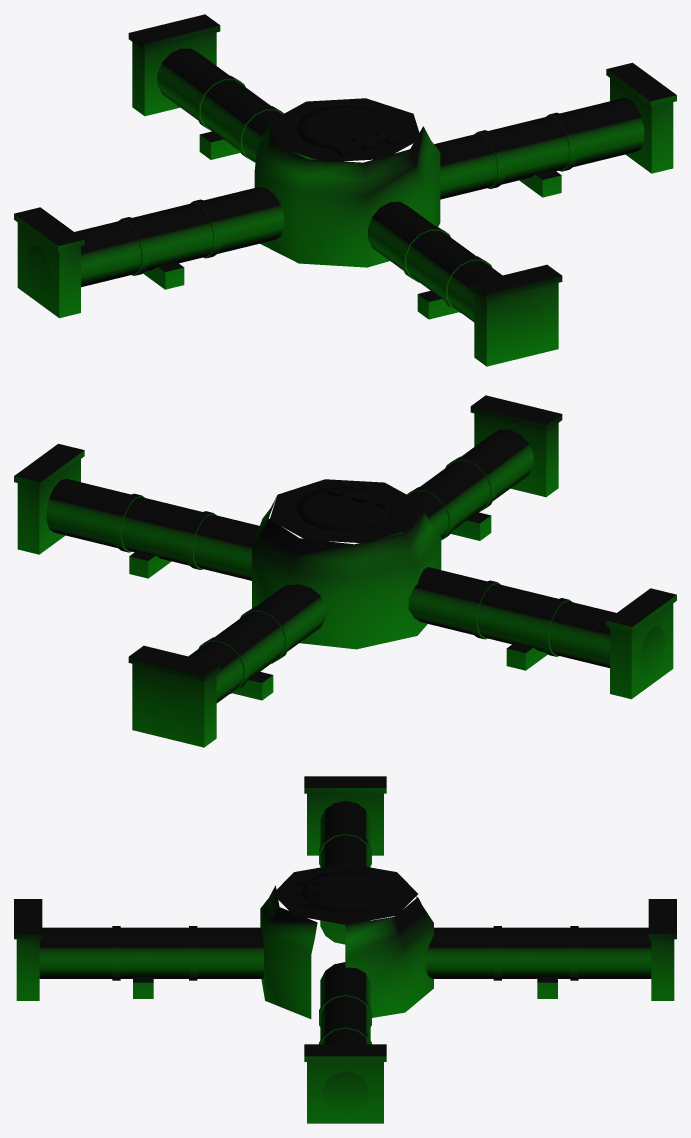
The model's file is fourwaypipe.glb.
3 views of the same model, one above another, from view 1: azimuth 30°, elevation 25°; view 2: azimuth 150°, elevation 25°; view 3: azimuth 270°, elevation 25° (orthographic). The views are drawn at different scales.
Parts seen in each view (by area): view 1: lod0; view 2: lod0; view 3: lod0.
Part boxes in pixels (x1,y1,x2,y2): lod0: (14, 14, 676, 366); lod0: (14, 395, 676, 747); lod0: (14, 776, 676, 1123).
Size of what is drawn, in the model's own units: 25.8 by 4.1 by 25.8.
